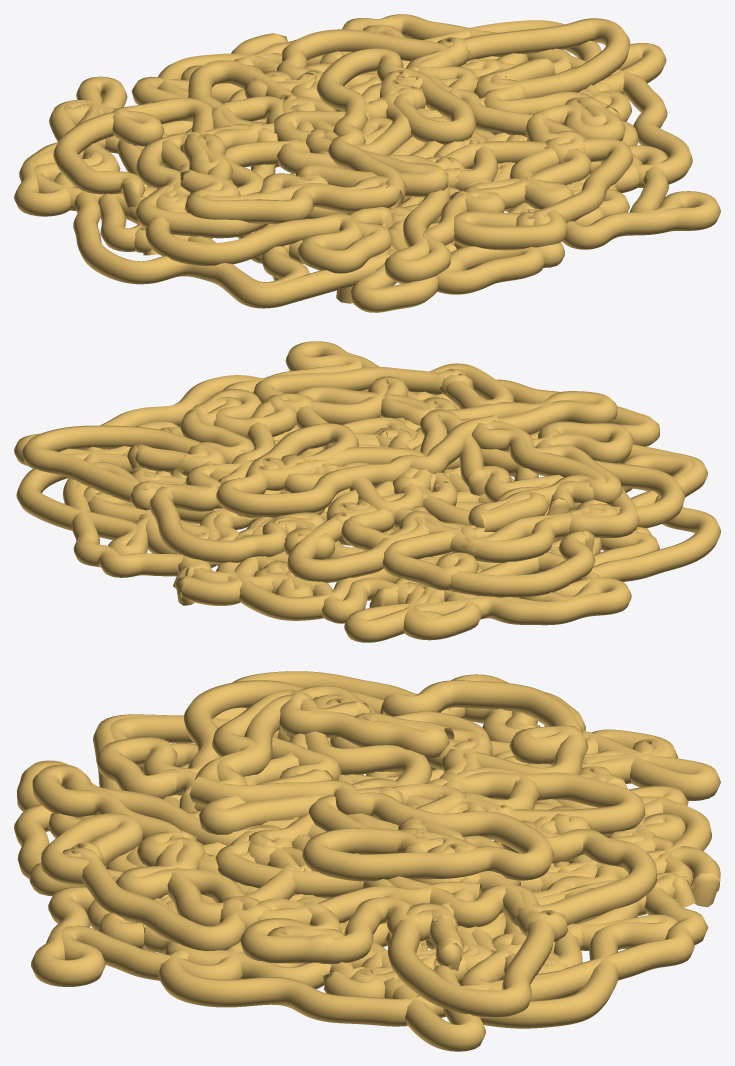
File: noodlesModel.fbx
The picture shows the model from 3 angles, top to bottom: view 1: azimuth 30°, elevation 25°; view 2: azimuth 150°, elevation 25°; view 3: azimuth 270°, elevation 25°; orthographic projection. The views are drawn at different scales.
Visible parts, largest first — view 1: extrudedSurface34, extrudedSurface36, extrudedSurface37, extrudedSurface9, extrudedSurface26, extrudedSurface18, extrudedSurface35, extrudedSurface19, extrudedSurface27, extrudedSurface33, extrudedSurface12, extrudedSurface7 (+19 smaller); view 2: extrudedSurface26, extrudedSurface37, extrudedSurface36, extrudedSurface34, extrudedSurface18, extrudedSurface21, extrudedSurface27, extrudedSurface12, extrudedSurface9, extrudedSurface19, extrudedSurface28, extrudedSurface16 (+18 smaller); view 3: extrudedSurface36, extrudedSurface34, extrudedSurface37, extrudedSurface27, extrudedSurface18, extrudedSurface26, extrudedSurface19, extrudedSurface32, extrudedSurface9, extrudedSurface33, extrudedSurface29, extrudedSurface16 (+21 smaller).
Part boxes in pixels (x1,y1,x2,y2): extrudedSurface34: [449, 138, 632, 250]; extrudedSurface36: [316, 48, 476, 208]; extrudedSurface37: [369, 18, 630, 117]; extrudedSurface9: [145, 192, 410, 273]; extrudedSurface26: [53, 98, 213, 210]; extrudedSurface18: [180, 132, 401, 224]; extrudedSurface35: [73, 191, 395, 308]; extrudedSurface19: [384, 141, 591, 283]; extrudedSurface27: [427, 71, 625, 163]; extrudedSurface33: [561, 145, 720, 249]; extrudedSurface12: [274, 83, 448, 197]; extrudedSurface7: [135, 141, 453, 238]; extrudedSurface26: [382, 503, 617, 597]; extrudedSurface37: [22, 425, 258, 519]; extrudedSurface36: [216, 415, 498, 516]; extrudedSurface34: [253, 363, 513, 425]; extrudedSurface18: [468, 420, 622, 541]; extrudedSurface21: [344, 577, 631, 642]; extrudedSurface27: [170, 389, 312, 481]; extrudedSurface12: [281, 409, 488, 517]; extrudedSurface9: [413, 421, 684, 528]; extrudedSurface19: [296, 386, 617, 448]; extrudedSurface28: [150, 484, 334, 564]; extrudedSurface16: [287, 482, 549, 582]; extrudedSurface36: [189, 776, 553, 881]; extrudedSurface34: [41, 813, 245, 950]; extrudedSurface37: [387, 873, 568, 1018]; extrudedSurface27: [219, 882, 481, 964]; extrudedSurface18: [195, 689, 454, 785]; extrudedSurface26: [313, 680, 588, 775]; extrudedSurface19: [32, 764, 299, 926]; extrudedSurface32: [158, 943, 569, 1026]; extrudedSurface9: [96, 680, 316, 828]; extrudedSurface33: [31, 876, 243, 986]; extrudedSurface29: [459, 872, 708, 1000]; extrudedSurface16: [330, 728, 645, 835].
Size of the model in its own units: 66.94 by 9.38 by 54.69.
